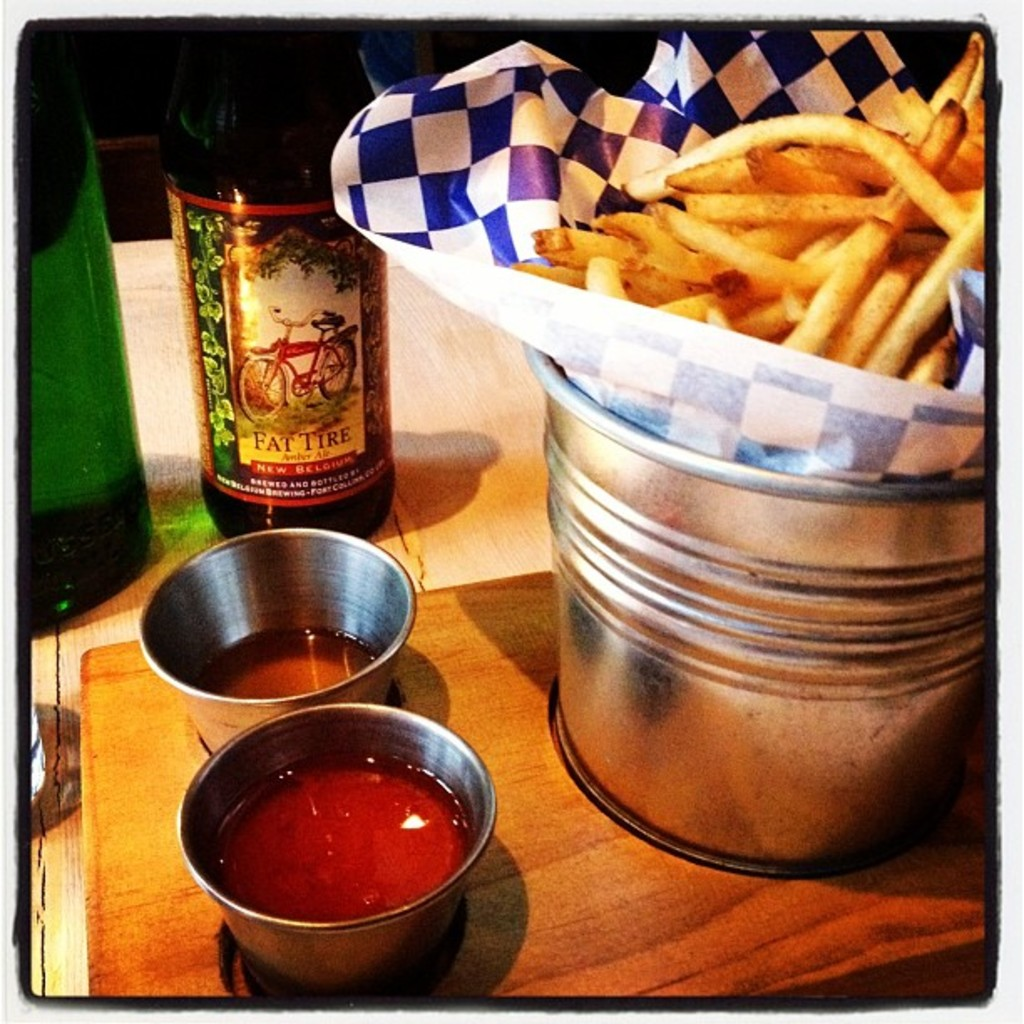French fries: (592, 88, 987, 354)
